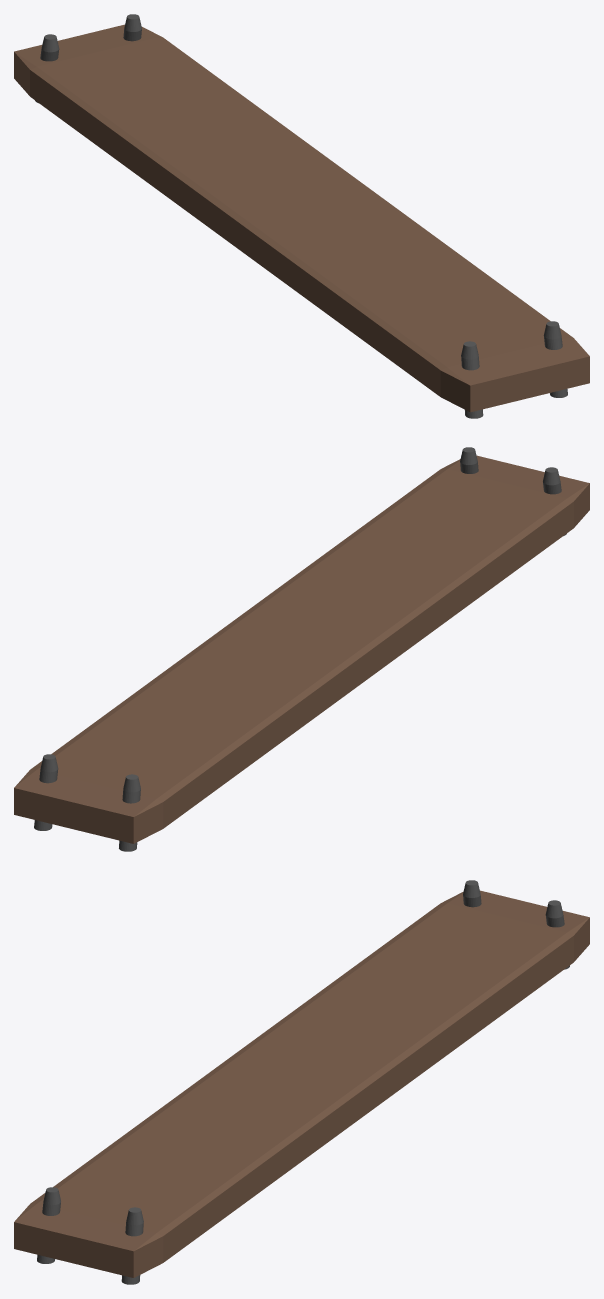
The model's file is Plank.fbx.
The picture shows the model from 3 angles, top to bottom: view 1: azimuth 30°, elevation 25°; view 2: azimuth 150°, elevation 25°; view 3: azimuth 330°, elevation 25°; orthographic projection.
Parts seen in each view (by area): view 1: Cube; view 2: Cube; view 3: Cube.
Part boxes in pixels (<box>): Cube: <box>14,14,589,418</box>; Cube: <box>14,447,589,851</box>; Cube: <box>14,880,589,1284</box>.
Bounding box in the file's own units: 93.8 × 45 × 557.
